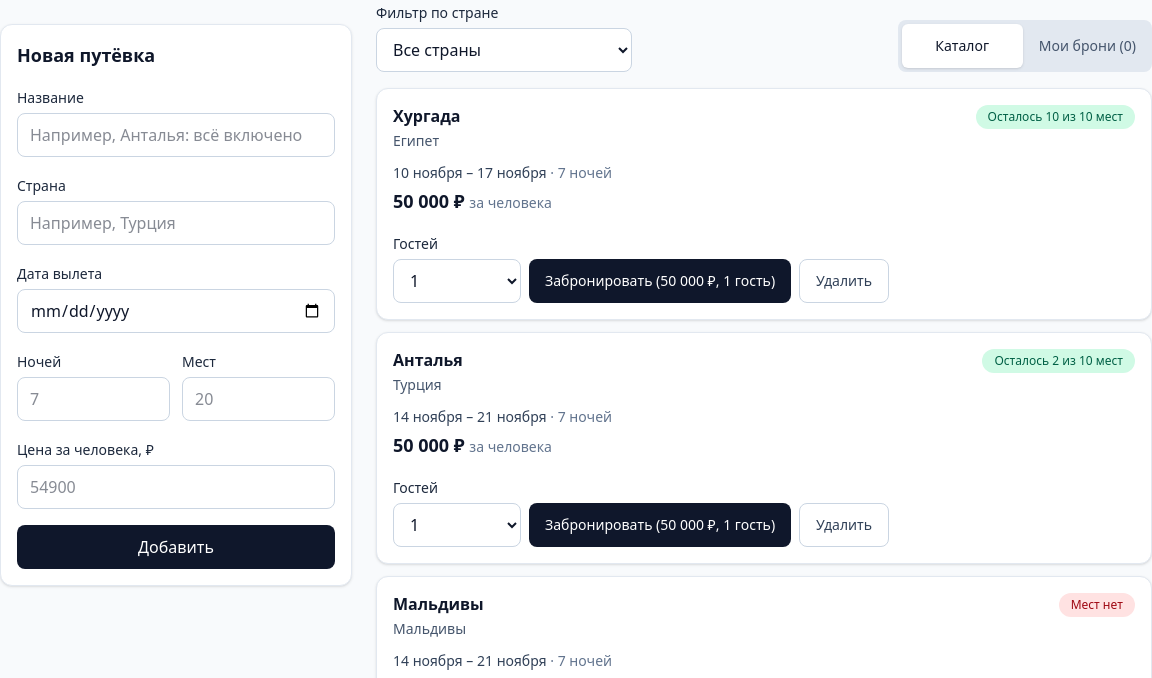
Scenario: ToursPage › бронирование: уменьшает число мест и появляется в «Мои брони»
Expected: the heading "Анталья" is shown, 393,349 -> 463,371
Select "2" in the dropdown named "Гостей: Анталья" at [457, 525], box 393,503 -> 521,547
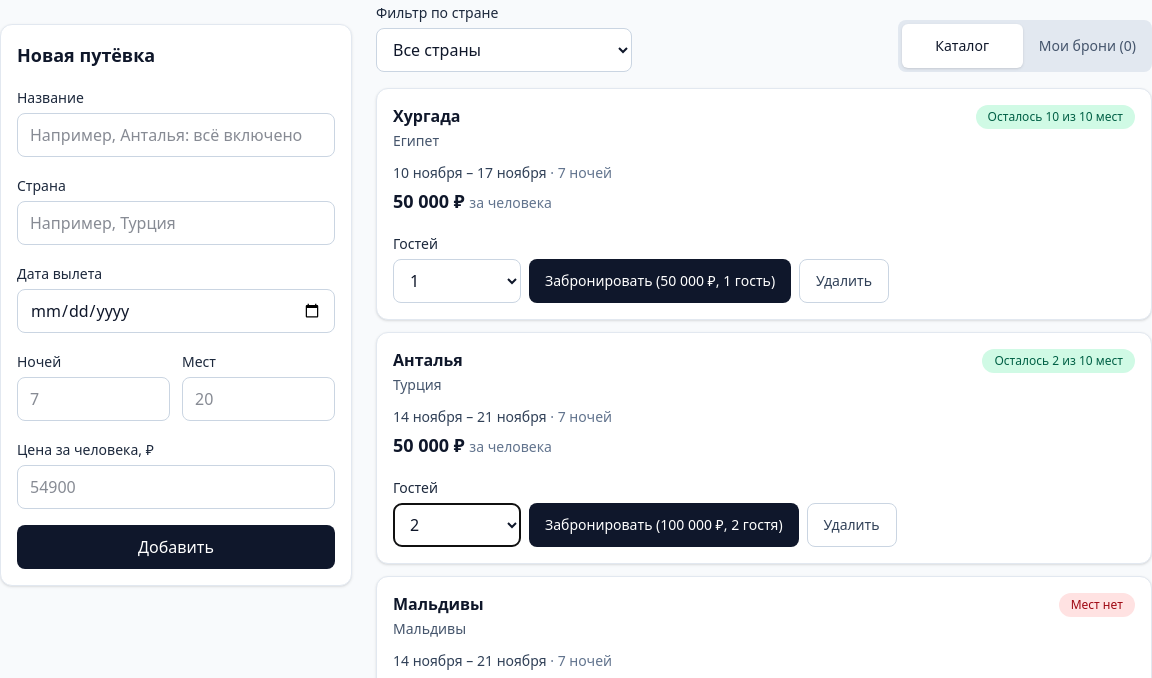
Click the button with aria-label "Забронировать: Анталья" at [664, 525], box 529,503 -> 799,547
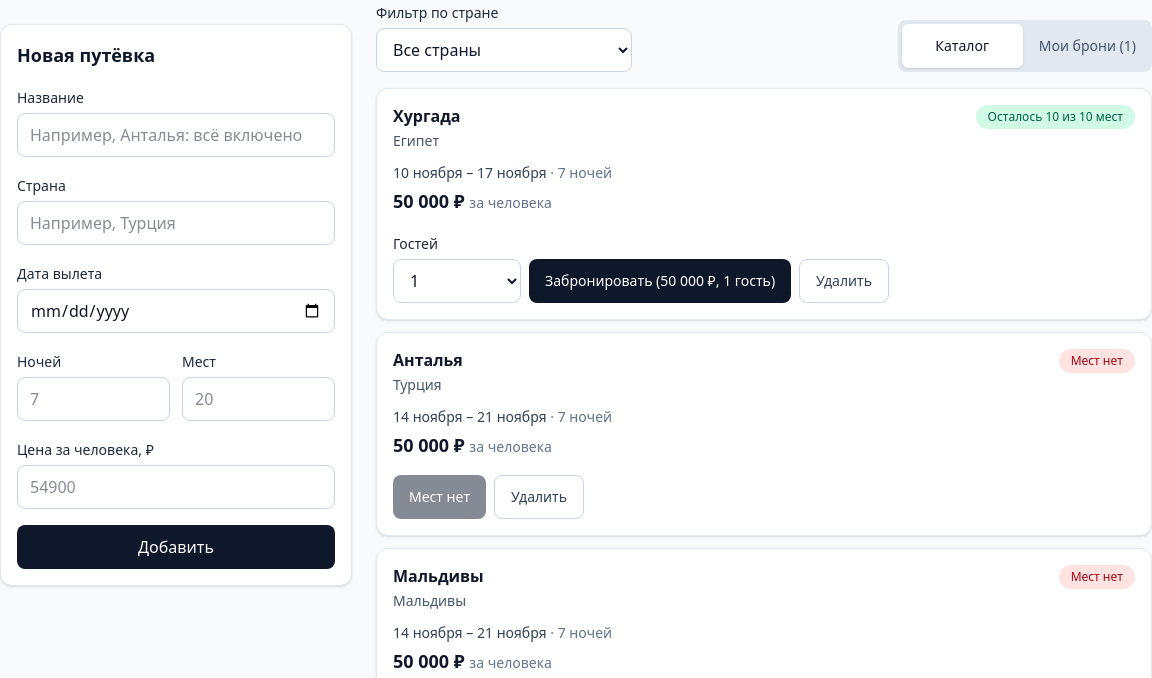
Expected: the button "Мои брони (1)" is shown
Expected: the text "Мест нет" in the row of "Анталья" is shown, 1071,352 -> 1123,369
Click the button "Мои брони (1)" at [1087, 46], box 1027,24 -> 1148,68
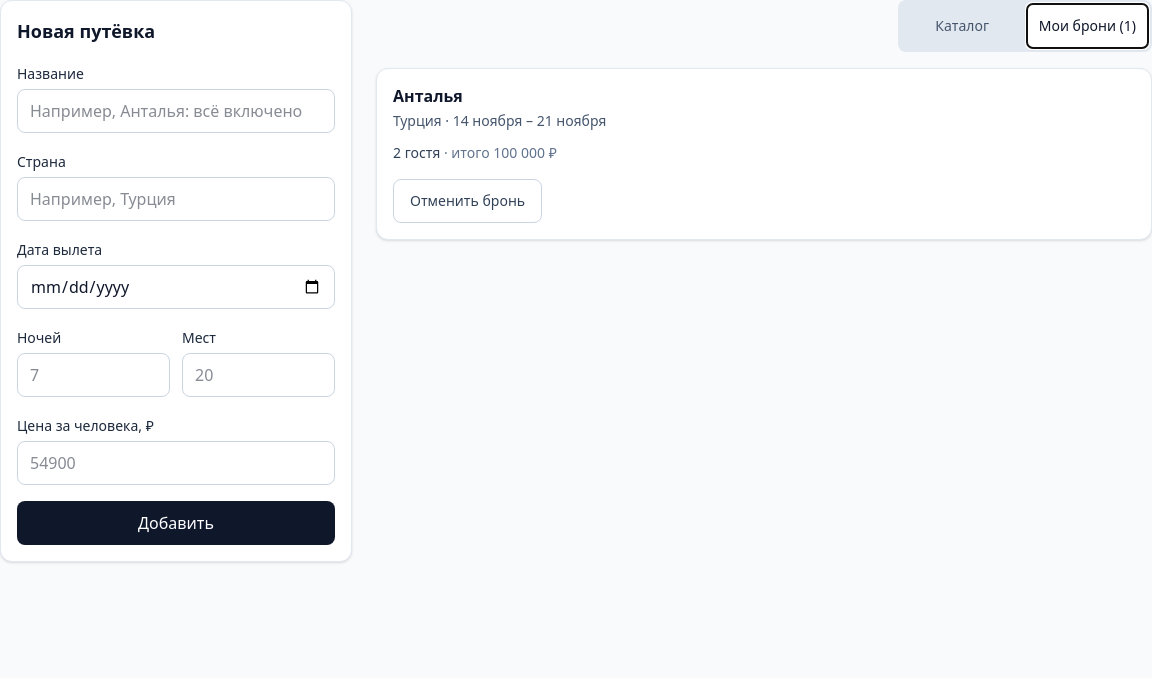
Expected: the list item shows "Анталья", 393,85 -> 463,107
Expected: the list item shows "2 гостя", 393,143 -> 440,162
Expected: the list item shows "итого 100 000 ₽", 376,68 -> 1151,240
